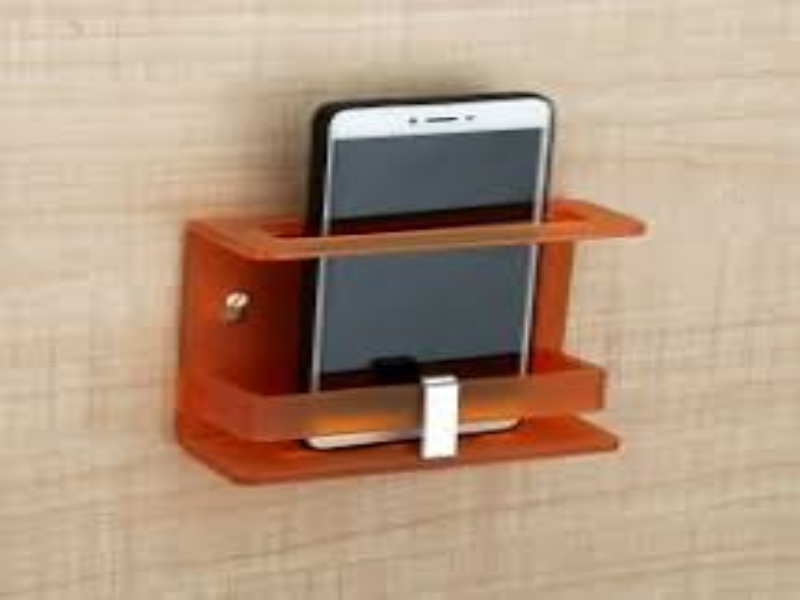mobile: (284, 75, 559, 455)
